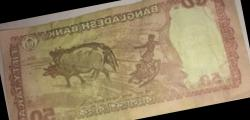50 taka: (8, 1, 223, 120)
